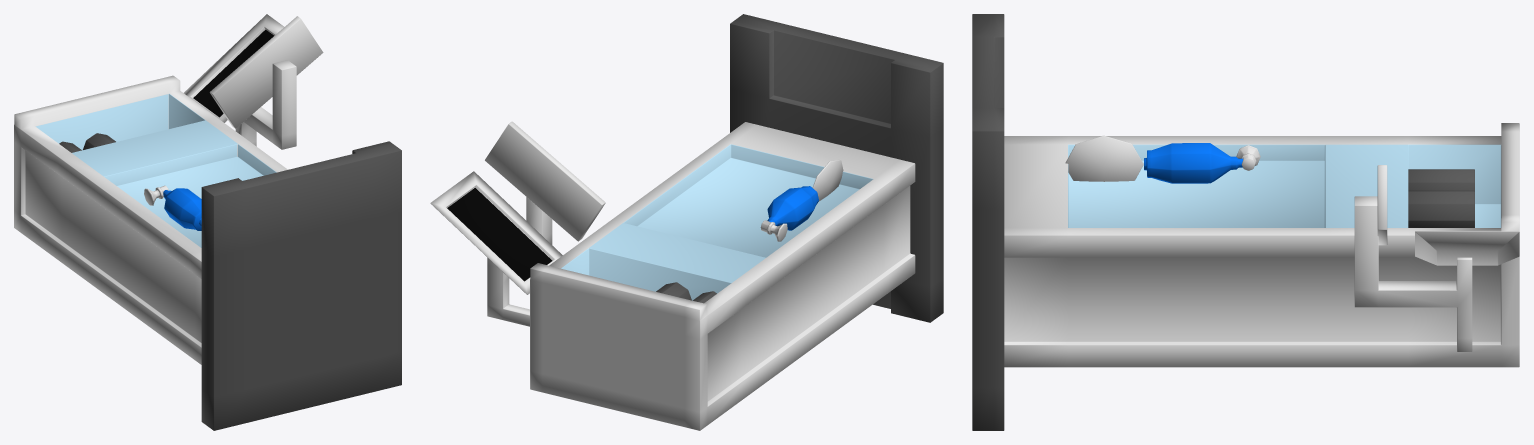
3 renders of one model, left to right at view 1: azimuth 30°, elevation 25°; view 2: azimuth 150°, elevation 25°; view 3: azimuth 270°, elevation 25°, orthographic. The views are drawn at different scales.
Parts seen in each view (by area): view 1: Cube.001; view 2: Cube.001; view 3: Cube.001.
Part boxes in pixels (x1=…): Cube.001: x1=14, y1=14, x2=401, y2=430; Cube.001: x1=430, y1=14, x2=943, y2=430; Cube.001: x1=972, y1=14, x2=1519, y2=430.
Size of the model in its own units: 75.23 by 63.3 by 104.
